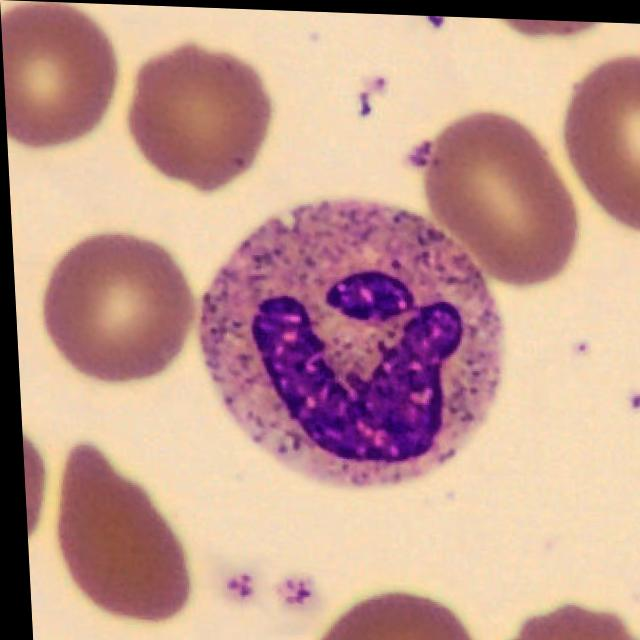Neutrofilo segmentado: (198, 198, 503, 486)
